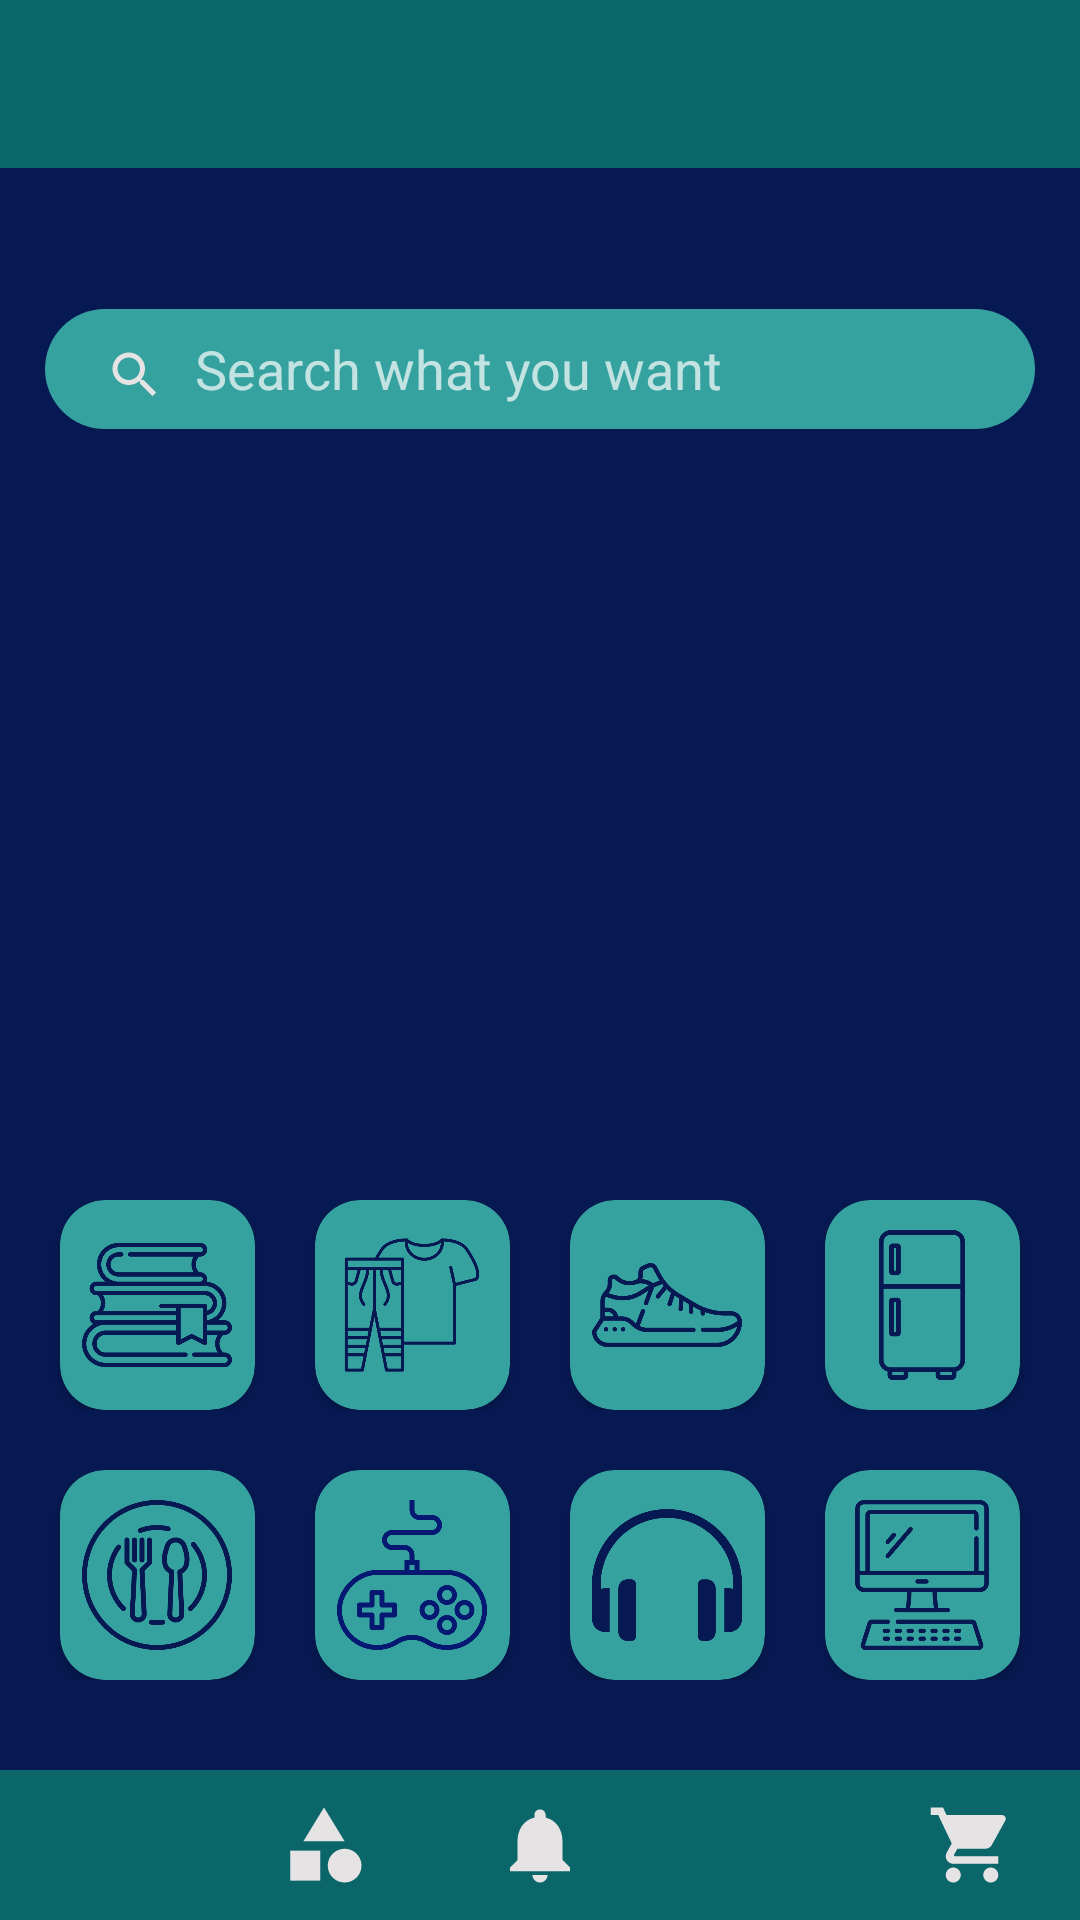

Icons on this 1080*1920 Android screen, each with its box as bbox(x1, y1, x2, y2):
books: bbox(82, 1243, 232, 1367)
category: bbox(290, 1808, 362, 1883)
clothes: bbox(345, 1238, 479, 1372)
computer: bbox(855, 1500, 989, 1650)
dish: bbox(82, 1500, 232, 1650)
headphones: bbox(592, 1509, 742, 1641)
joystick: bbox(337, 1500, 487, 1650)
notifications: bbox(510, 1809, 570, 1883)
refrigerator: bbox(879, 1230, 965, 1380)
shopping cart: bbox(930, 1807, 1006, 1883)
sneakers: bbox(592, 1263, 742, 1347)
